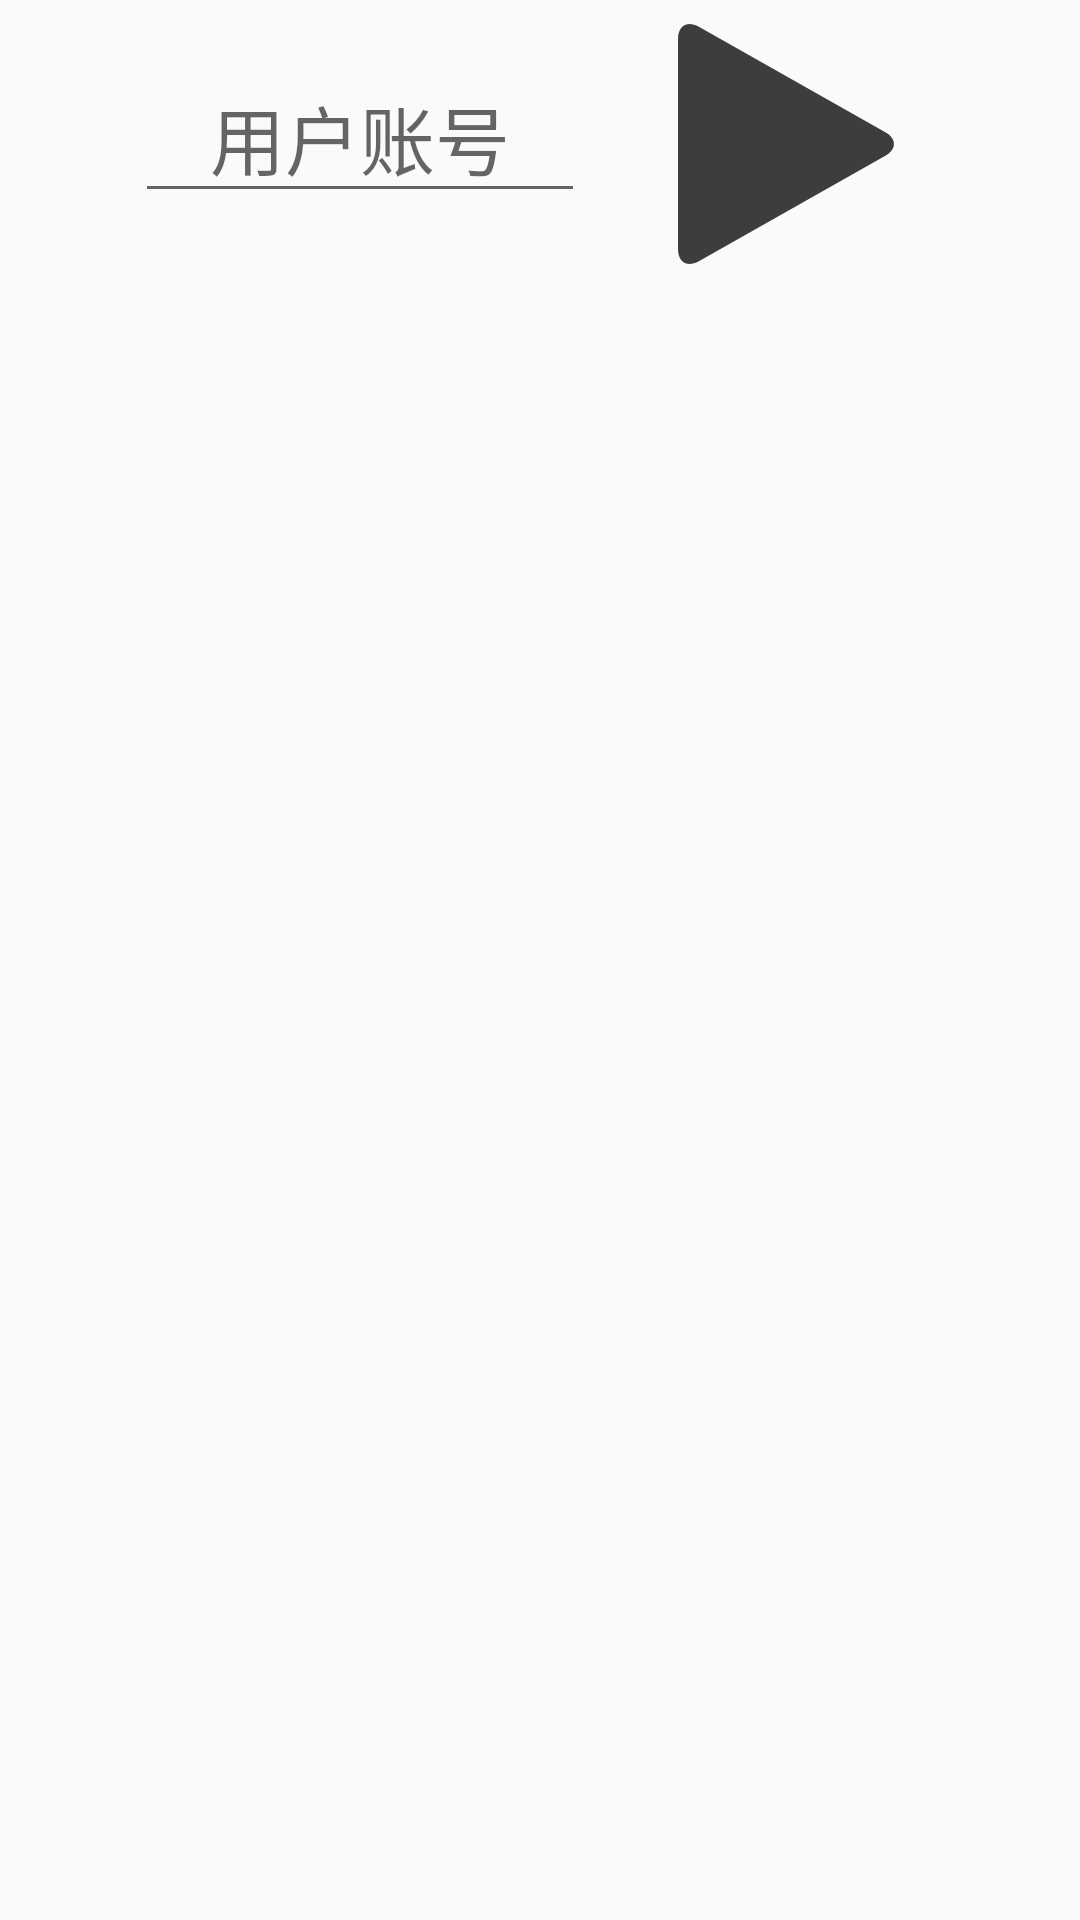

Screen size 1080 x 1920. Icon name, then its center in pixels as [x,y]:
play: [786,144]
